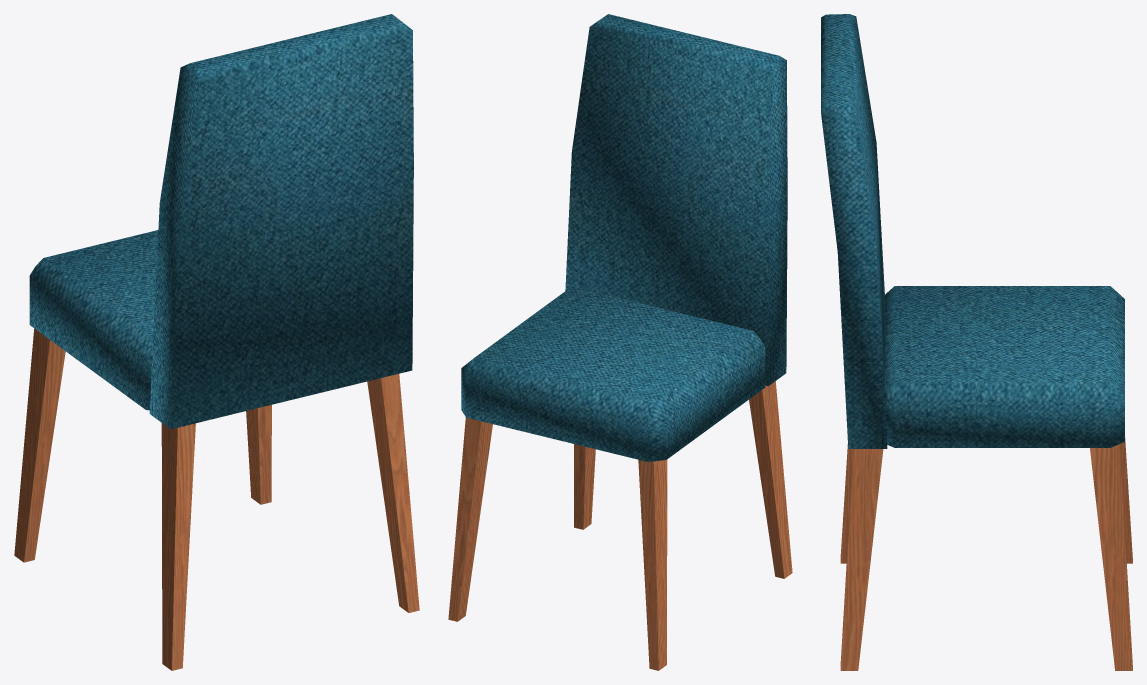
Rendered from chair.glb.
The picture shows the model from 3 angles, left to right: view 1: azimuth 30°, elevation 25°; view 2: azimuth 150°, elevation 25°; view 3: azimuth 270°, elevation 25°; orthographic projection. The views are drawn at different scales.
Parts seen in each view (by area): view 1: Chair_06; view 2: Chair_06; view 3: Chair_06.
Part boxes in pixels (x1,y1,x2,y2): Chair_06: (14,14,419,670); Chair_06: (448,14,792,670); Chair_06: (821,14,1132,670).
Size of the model in its own units: 0.503 by 1.16 by 0.5909.
Materials: 2 (2 with a texture image).
